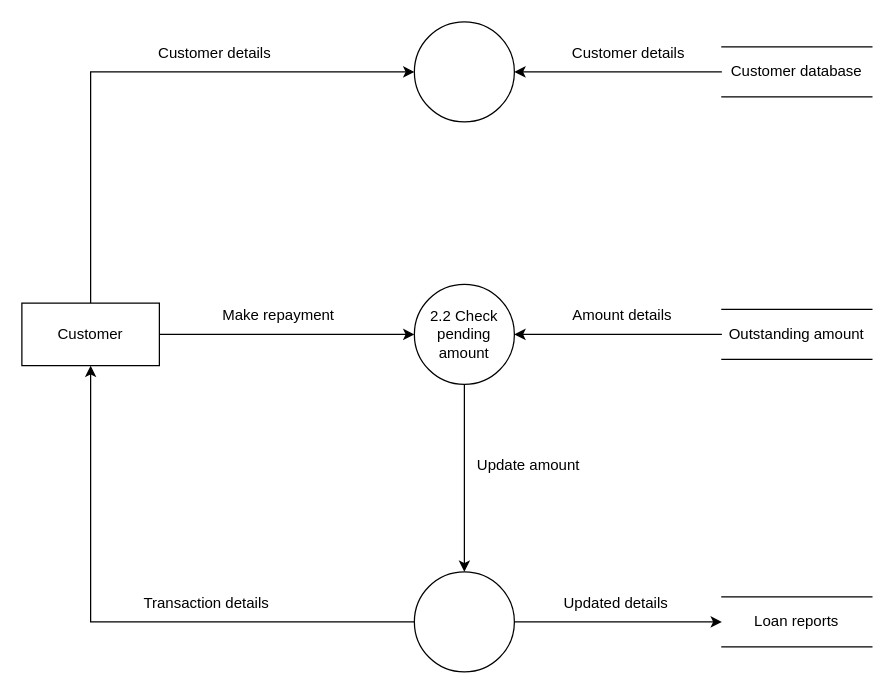
Image size: 894x694. Some labels were removed from this diagram. The shapes that lost their labels are listed below. From the top down, each one's box as (x1, y1, x2, y2) in pixels, then its label:
(413, 21, 514, 122): 2.1 Verify customer
(413, 571, 514, 672): 2.3 Update pending amount
